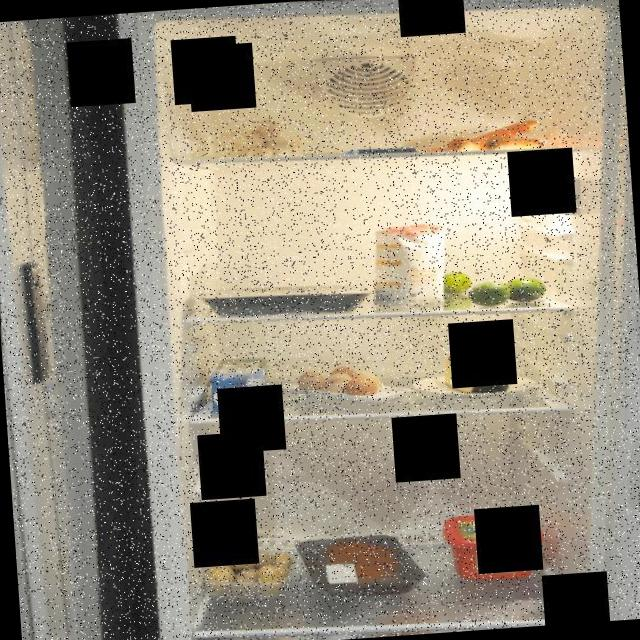Carne vacuno: (292, 526, 430, 604)
Champiñones: (206, 112, 310, 163)
Huevos: (294, 360, 384, 403)
Leche: (207, 352, 274, 418)
Mantequilla: (438, 506, 546, 586)
Patata: (198, 540, 297, 603)
Queso: (439, 348, 514, 398)
Zanahoria: (414, 113, 547, 157)
chocolate: (342, 143, 419, 160)
sugar: (365, 216, 454, 311)
